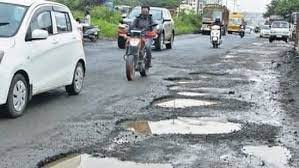potholes: (152, 91, 216, 111)
